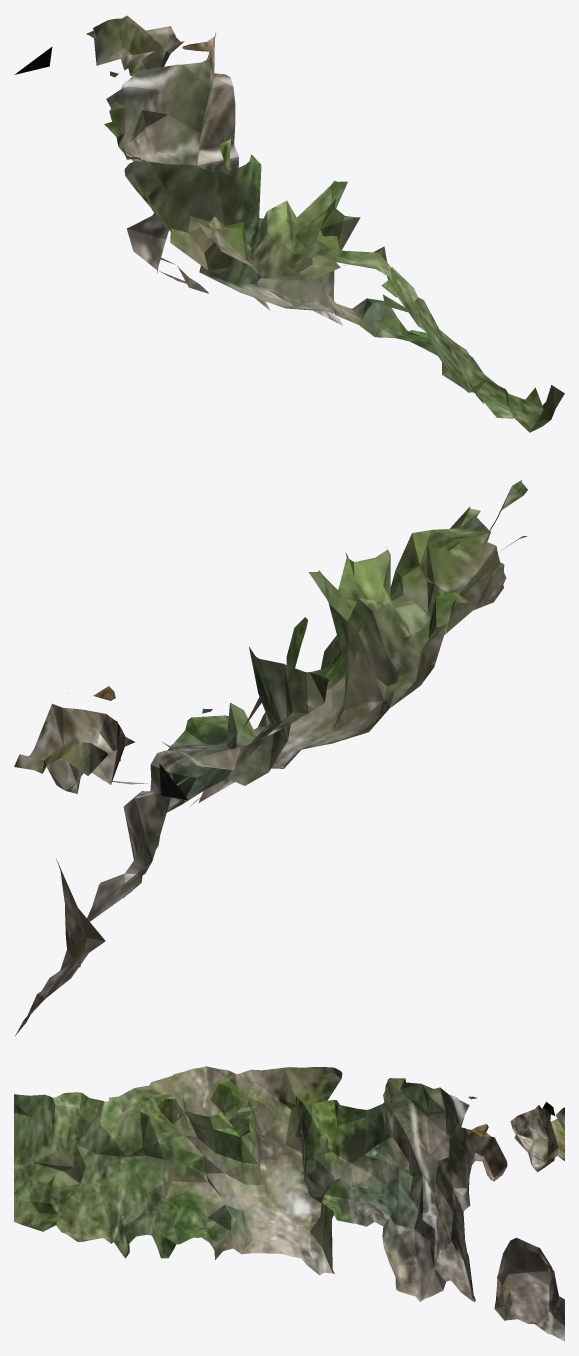
The picture shows the model from 3 angles, top to bottom: view 1: azimuth 30°, elevation 25°; view 2: azimuth 150°, elevation 25°; view 3: azimuth 270°, elevation 25°; orthographic projection. The views are drawn at different scales.
Bounding box in the file's own units: 1.81 × 2.41 × 5.9.
Materials: 1 (1 with a texture image).
